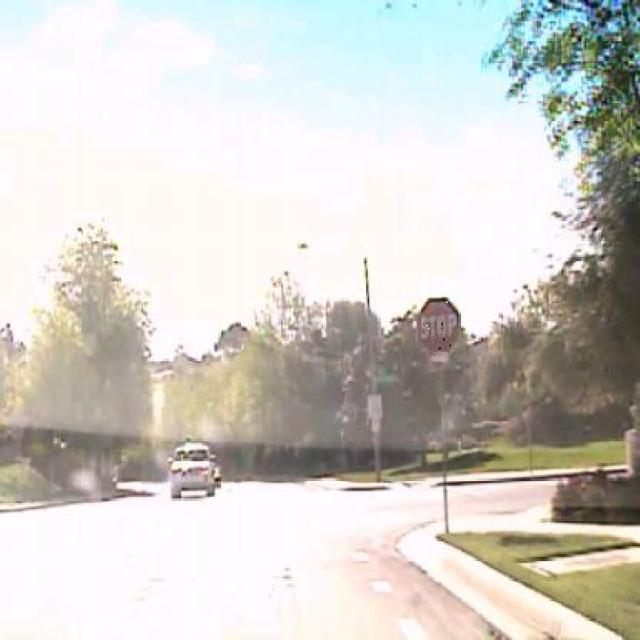stop: (417, 298, 460, 357)
